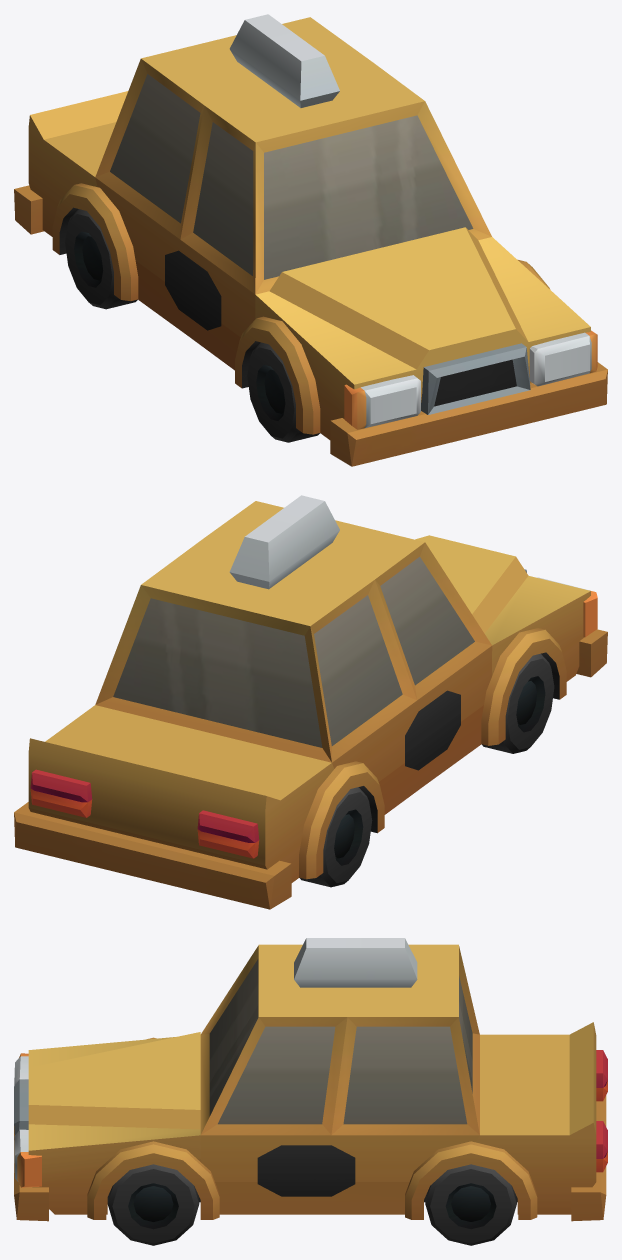
File: car_taxi.glb
3 views of the same model, one above another, from view 1: azimuth 30°, elevation 25°; view 2: azimuth 150°, elevation 25°; view 3: azimuth 270°, elevation 25° (orthographic). The views are drawn at different scales.
Visible parts, largest first — view 1: car_taxi; view 2: car_taxi; view 3: car_taxi.
Part boxes in pixels (x1,y1,x2,y2): car_taxi: (14, 14, 607, 466); car_taxi: (14, 495, 607, 909); car_taxi: (14, 938, 607, 1245).
Bounding box in the file's own units: 0.4189 × 0.4345 × 0.9381.
Materials: 1 (1 with a texture image).
